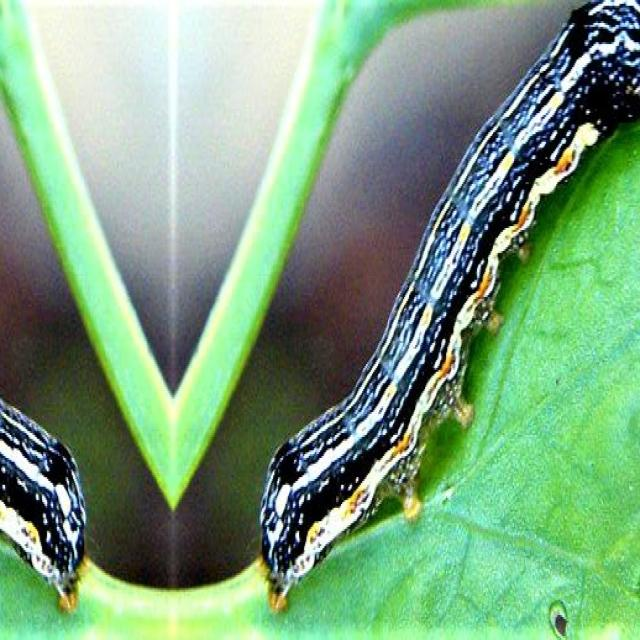Armyworm: (236, 2, 640, 629), (1, 270, 101, 637)
